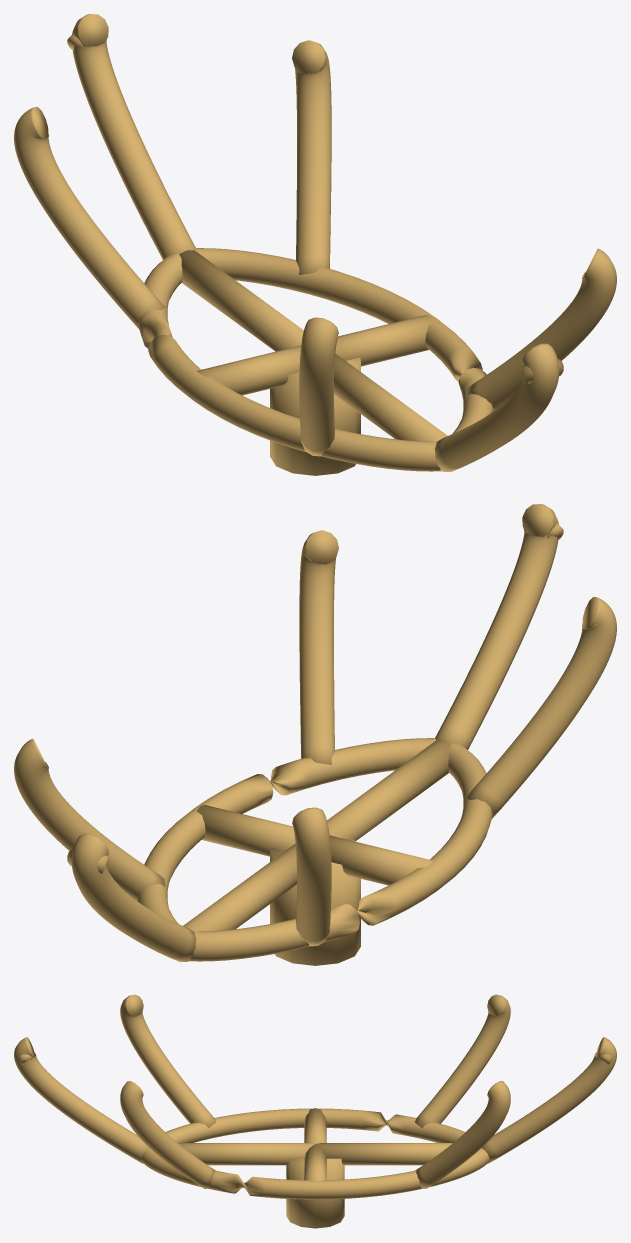
File: stuller-lg-500127752-4-prong.glb
3 renders of one model, top to bottom at view 1: azimuth 30°, elevation 25°; view 2: azimuth 150°, elevation 25°; view 3: azimuth 270°, elevation 25°, orthographic. The views are drawn at different scales.
Visible parts, largest first — view 1: Metal.202, Metal.211, Metal.208, Metal.207, Metal.212, Metal.210, Metal.204, Metal.209, Metal.206, Metal.201, Metal.203, Metal.205; view 2: Metal.202, Metal.212, Metal.209, Metal.210, Metal.211, Metal.207, Metal.206, Metal.208, Metal.204, Metal.201, Metal.203, Metal.205; view 3: Metal.202, Metal.212, Metal.211, Metal.208, Metal.209, Metal.207, Metal.210, Metal.204, Metal.206, Metal.201, Metal.203, Metal.205.
Part boxes in pixels (x1=…): Metal.202: x1=138, y1=248, x2=493, y2=471; Metal.211: x1=72, y1=14, x2=195, y2=259; Metal.208: x1=14, y1=107, x2=165, y2=328; Metal.207: x1=292, y1=40, x2=331, y2=274; Metal.212: x1=434, y1=343, x2=559, y2=472; Metal.210: x1=465, y1=248, x2=616, y2=410; Metal.204: x1=179, y1=250, x2=303, y2=351; Metal.209: x1=299, y1=317, x2=338, y2=456; Metal.206: x1=334, y1=353, x2=447, y2=442; Metal.201: x1=270, y1=348, x2=360, y2=475; Metal.203: x1=335, y1=315, x2=433, y2=366; Metal.205: x1=197, y1=345, x2=301, y2=395; Metal.202: x1=137, y1=738, x2=492, y2=961; Metal.212: x1=435, y1=504, x2=558, y2=749; Metal.209: x1=465, y1=597, x2=616, y2=818; Metal.210: x1=299, y1=530, x2=338, y2=764; Metal.211: x1=71, y1=833, x2=196, y2=962; Metal.207: x1=14, y1=738, x2=165, y2=900; Metal.206: x1=327, y1=740, x2=451, y2=841; Metal.208: x1=292, y1=807, x2=331, y2=946; Metal.204: x1=183, y1=843, x2=296, y2=932; Metal.201: x1=270, y1=838, x2=360, y2=965; Metal.203: x1=197, y1=805, x2=295, y2=856; Metal.205: x1=329, y1=835, x2=433, y2=885; Metal.202: x1=141, y1=1108, x2=489, y2=1199; Metal.212: x1=14, y1=1037, x2=148, y2=1163; Metal.211: x1=482, y1=1037, x2=616, y2=1163; Metal.208: x1=415, y1=994, x2=510, y2=1128; Metal.209: x1=120, y1=994, x2=215, y2=1128; Metal.207: x1=415, y1=1081, x2=510, y2=1188; Metal.210: x1=120, y1=1081, x2=215, y2=1188; Metal.204: x1=316, y1=1143, x2=452, y2=1165; Metal.206: x1=178, y1=1143, x2=314, y2=1165; Metal.201: x1=286, y1=1158, x2=344, y2=1228; Metal.203: x1=304, y1=1144, x2=326, y2=1199; Metal.205: x1=304, y1=1108, x2=326, y2=1143.
Bounding box in the file's own units: 4.75 × 4.05 × 12.43.
